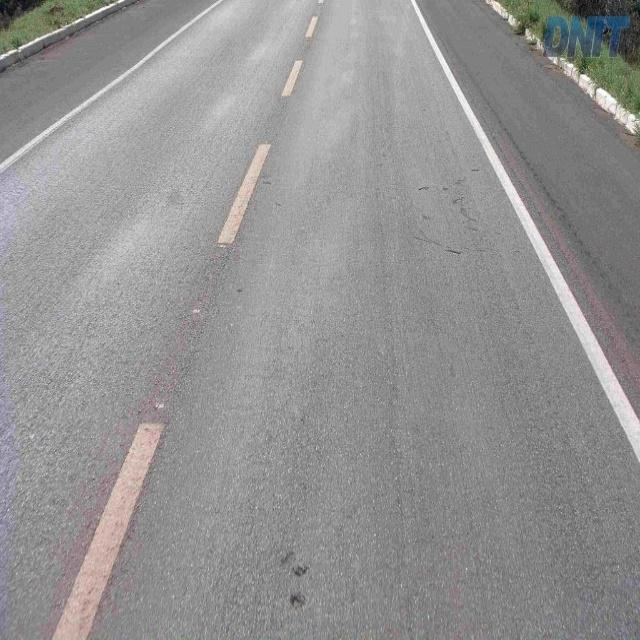pothole: (276, 546, 321, 615)
